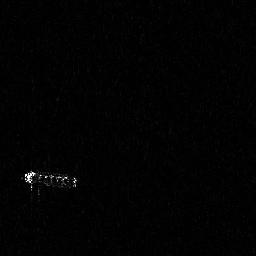ship: (19, 168, 79, 200)
